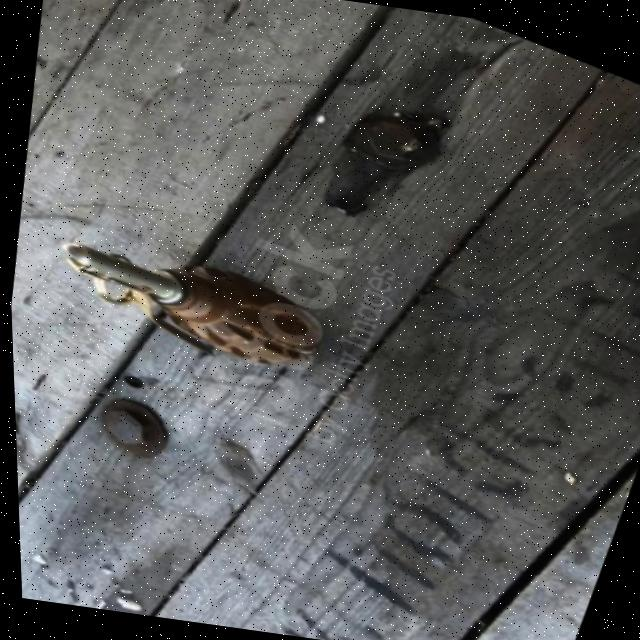grenade: (29, 200, 347, 398)
